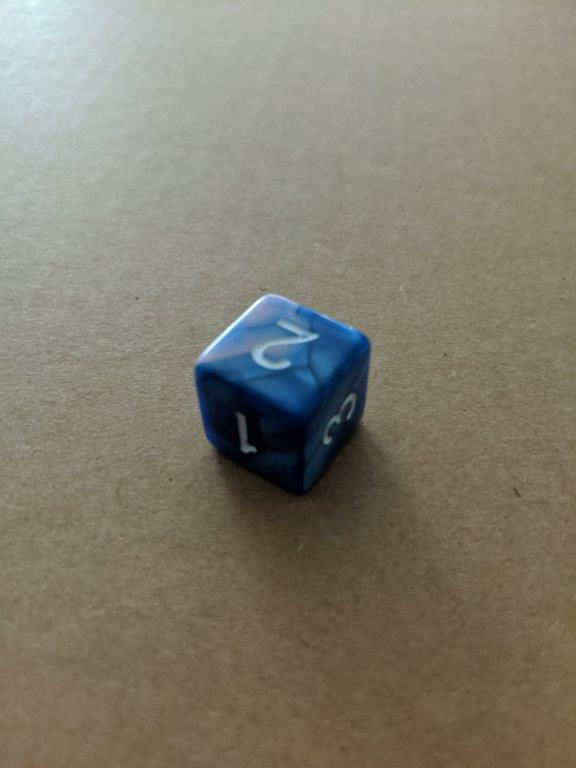d6-2: (193, 293, 370, 495)
